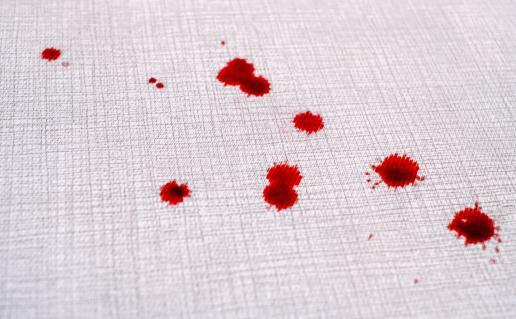Fire: (445, 201, 502, 250), (261, 158, 304, 212), (215, 57, 271, 98), (369, 152, 426, 192), (158, 178, 192, 205), (291, 110, 325, 135), (41, 46, 62, 61), (154, 82, 164, 88), (148, 77, 157, 83)
